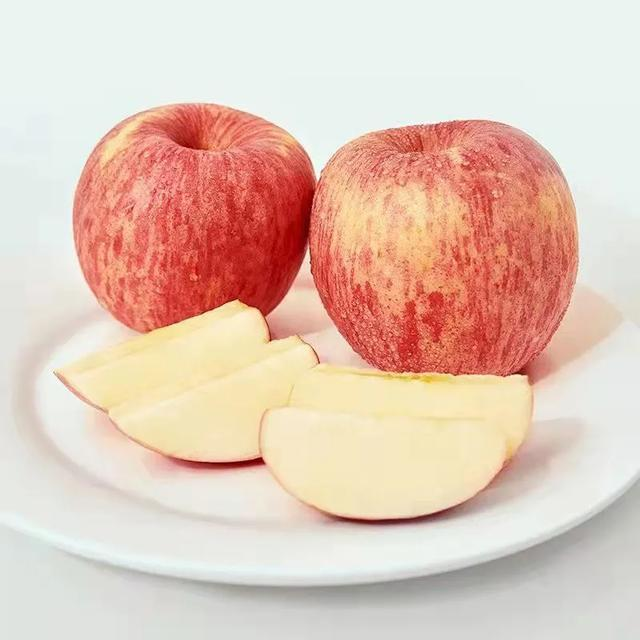apple: (293, 119, 583, 387), (68, 98, 316, 334), (54, 299, 318, 467), (259, 365, 541, 521)
